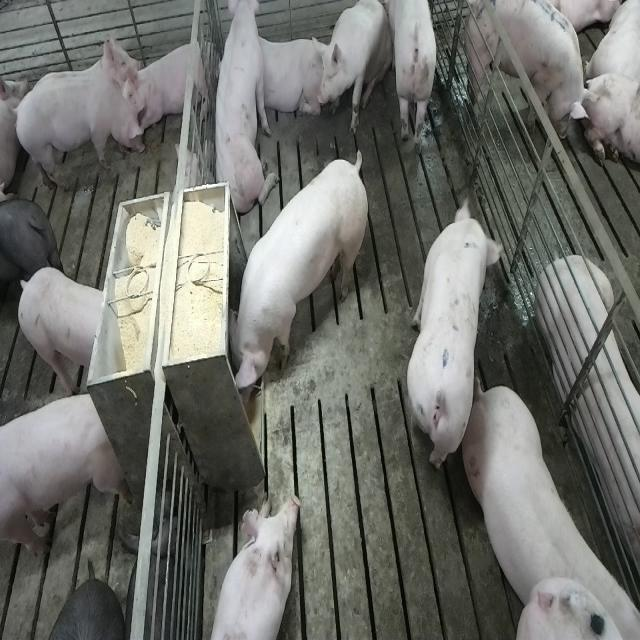Feeding: (220, 147, 366, 396)
Sitting: (211, 4, 272, 220), (318, 2, 391, 138)
Standing: (404, 194, 504, 478), (1, 387, 127, 565), (461, 0, 591, 138), (14, 73, 147, 193), (17, 266, 107, 400), (386, 2, 440, 158), (0, 190, 56, 326)
Sternal_lying: (538, 252, 640, 580), (206, 492, 300, 640), (130, 30, 214, 138), (250, 33, 330, 121)
